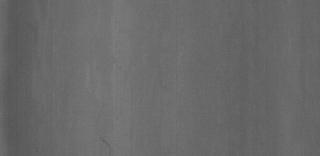water spot: (98, 126, 122, 156)
